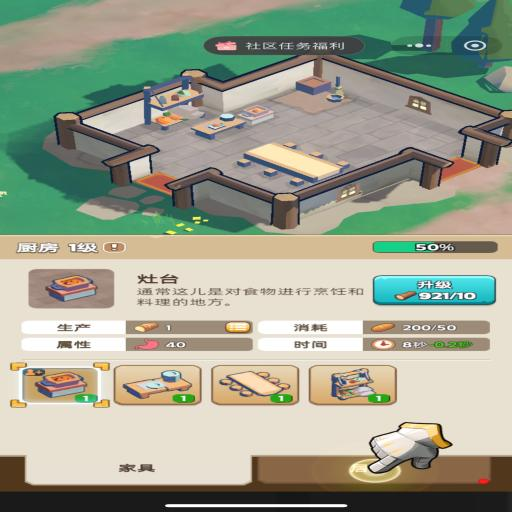newcomer_hand: (364, 421, 448, 473)
